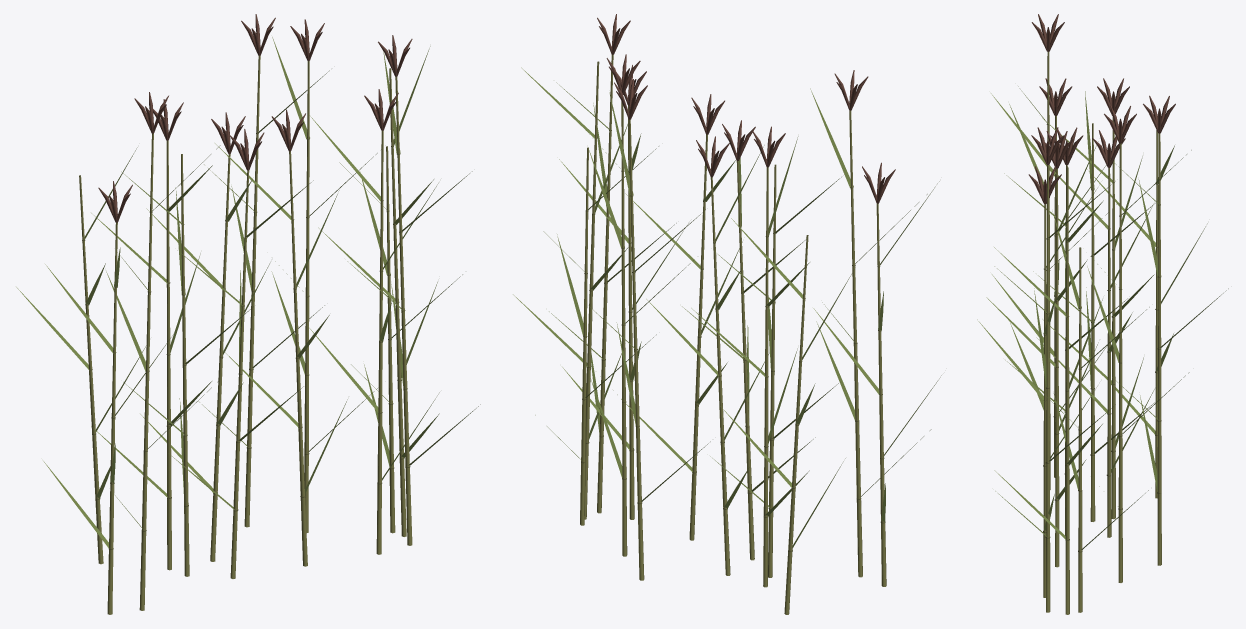
Rendered from lake-trostnik-shallows-0.glb.
The picture shows the model from 3 angles, left to right: view 1: azimuth 30°, elevation 25°; view 2: azimuth 150°, elevation 25°; view 3: azimuth 270°, elevation 25°; orthographic projection. The views are drawn at different scales.
Parts seen in each view (by area): view 1: lake-trostnik-shallows-0; view 2: lake-trostnik-shallows-0; view 3: lake-trostnik-shallows-0.
Part boxes in pixels (x1,y1,x2,y2): lake-trostnik-shallows-0: [16, 14, 480, 614]; lake-trostnik-shallows-0: [513, 14, 941, 614]; lake-trostnik-shallows-0: [977, 14, 1228, 614].
Size of the model in its own units: 1.73 by 2.14 by 1.05.
